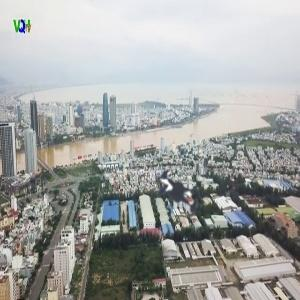drone: (129, 144, 228, 243)
